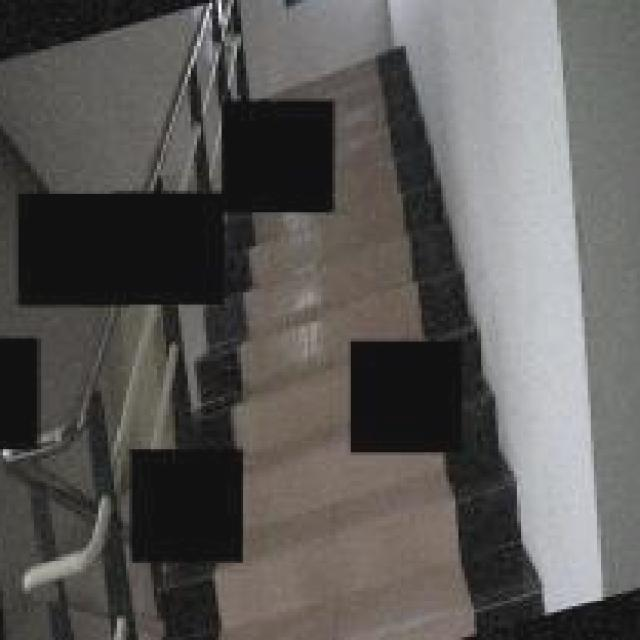upstair: (340, 57, 463, 328)
